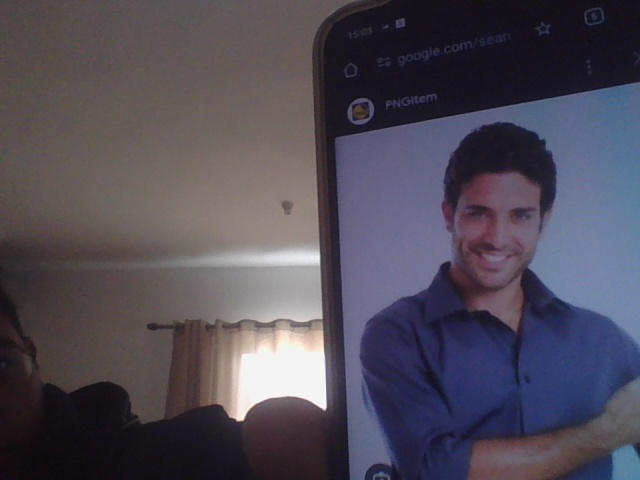fake: (439, 134, 554, 297)
